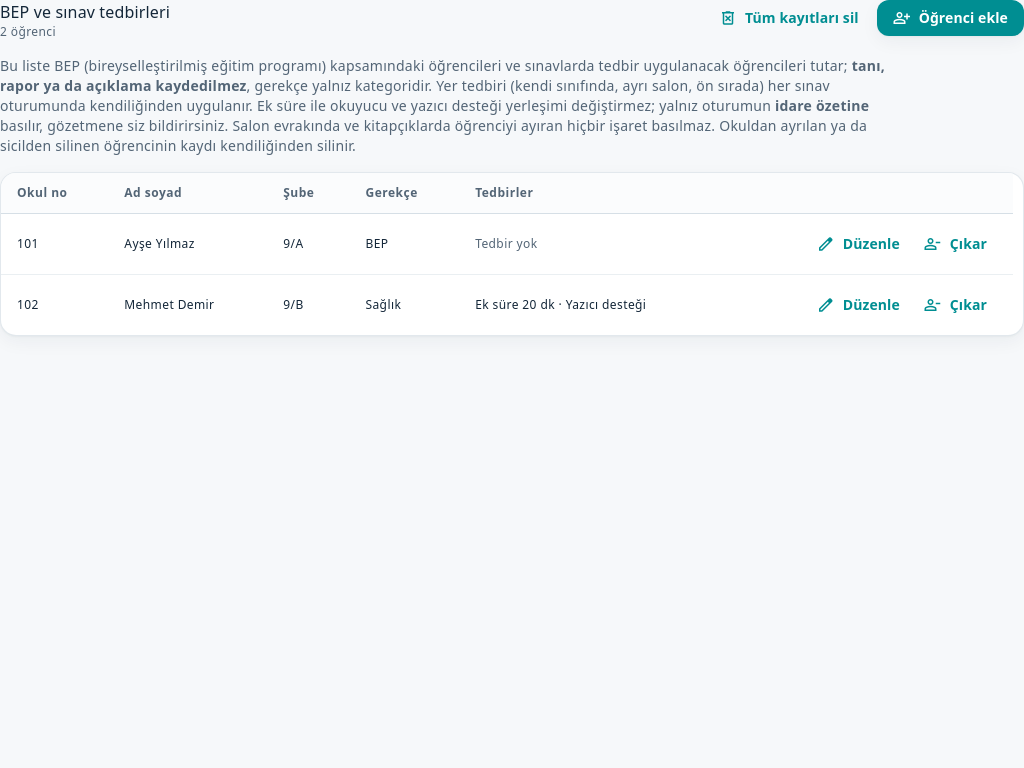
Test: BepListesiPaneli › Düzenle satırın tedbirleriyle açılır ve SATIR kimliğiyle kaydeder
Click the button "Düzenle" in the row of "102": (858, 305) [807,287,910,323]
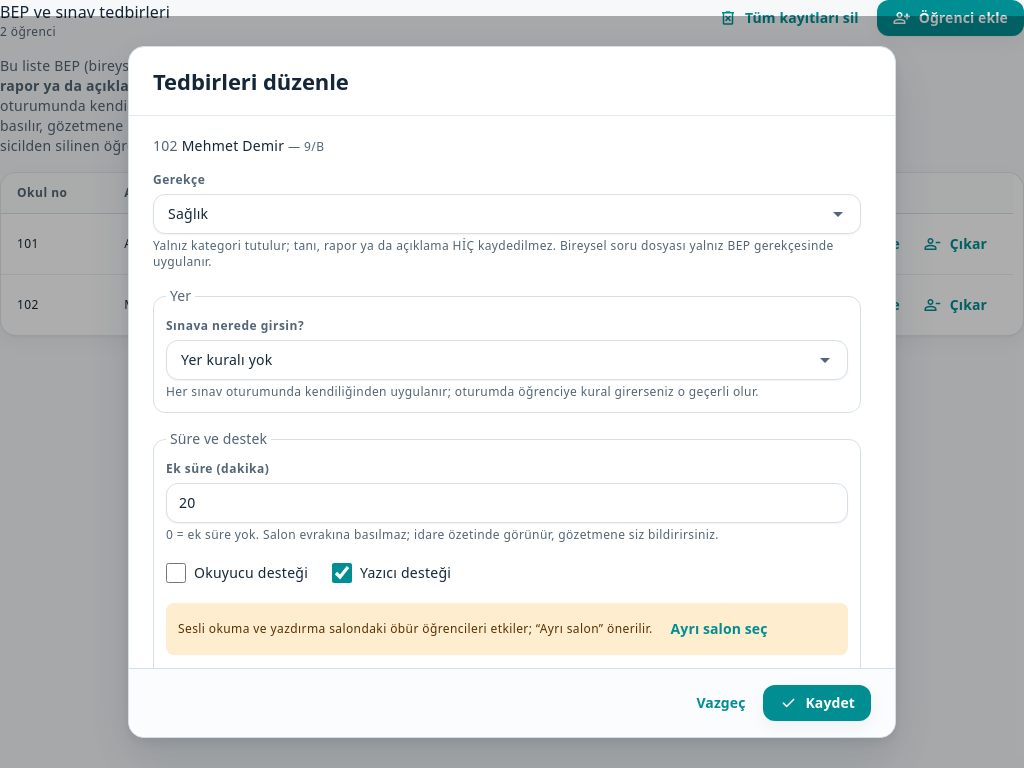
Check: the number field labelled "Ek süre (dakika)" holds "20", box [179,493,835,513]
Check: the checkbox labelled "Yazıcı desteği" is checked, box [332,563,352,583]
Click the button "Kaydet": (817, 703) [764,685,871,721]
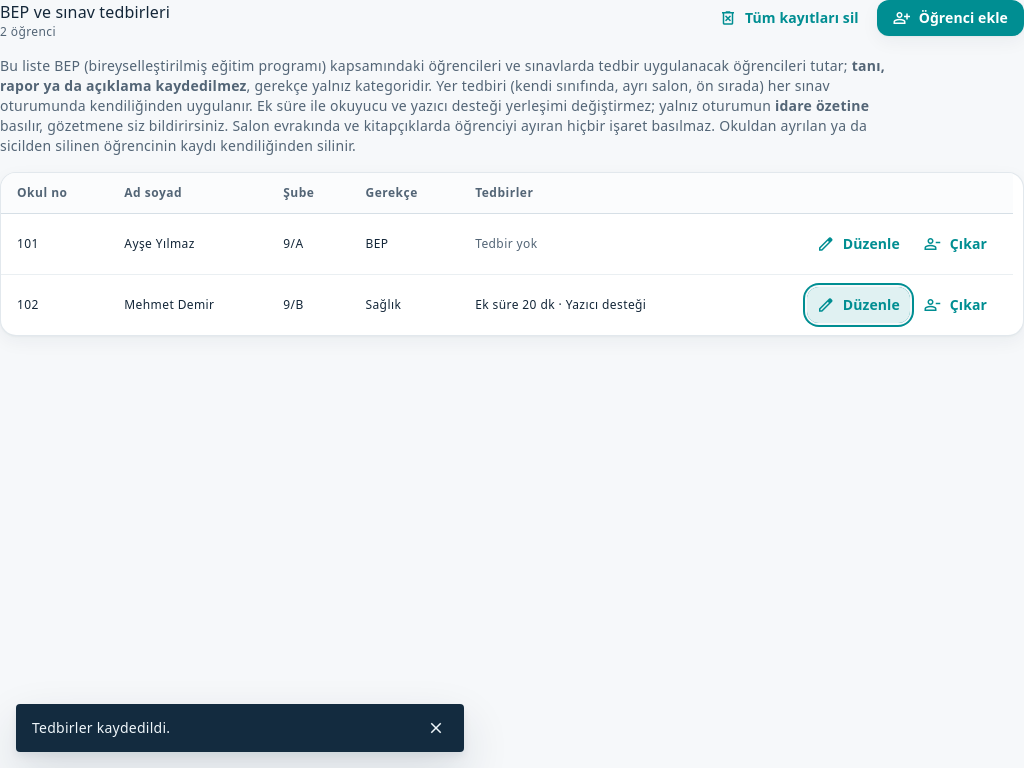
Check: the text "Tedbirler kaydedildi." is shown, box [32,718,170,737]
